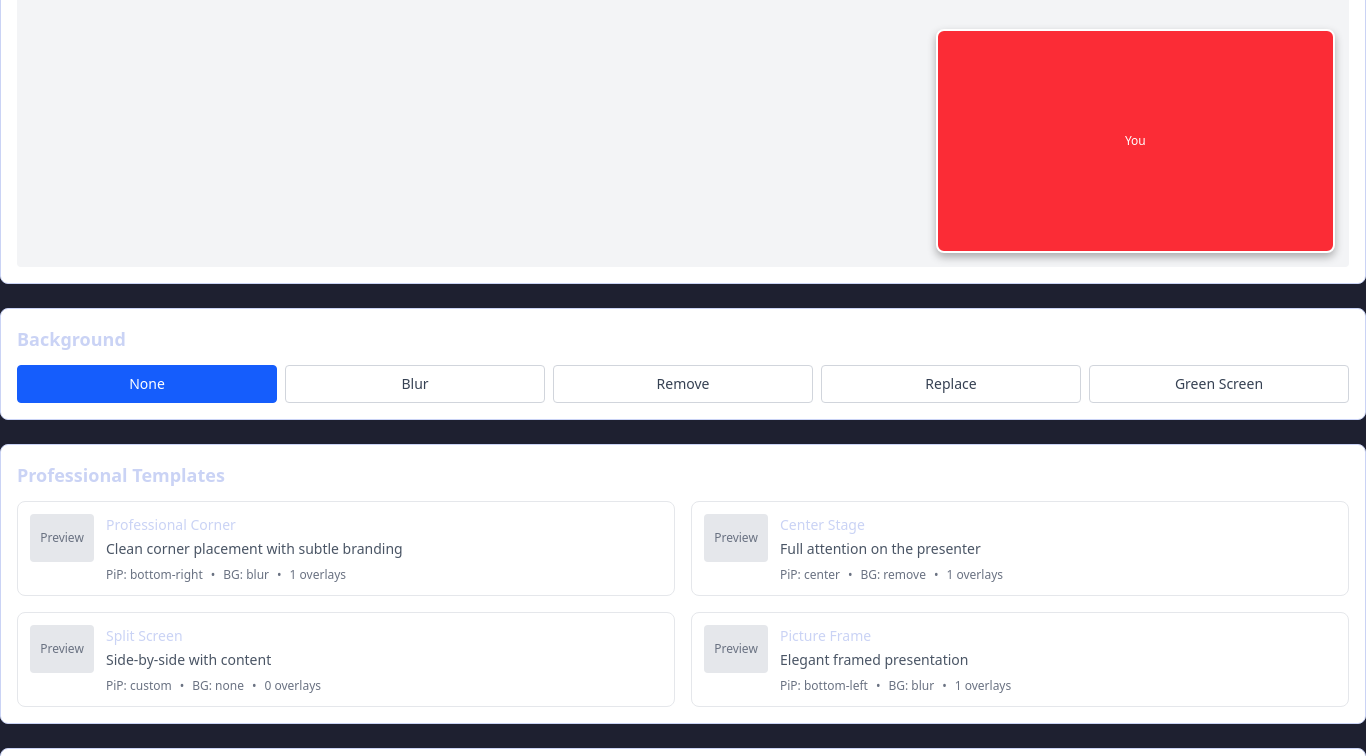
Test: YouTrackFeatures › shows blur amount slider when blur is selected
This screenshot has width=1366, height=756.
(page scrolled)
Click the button "Blur".
click(415, 384)  # box [285,365,545,403]
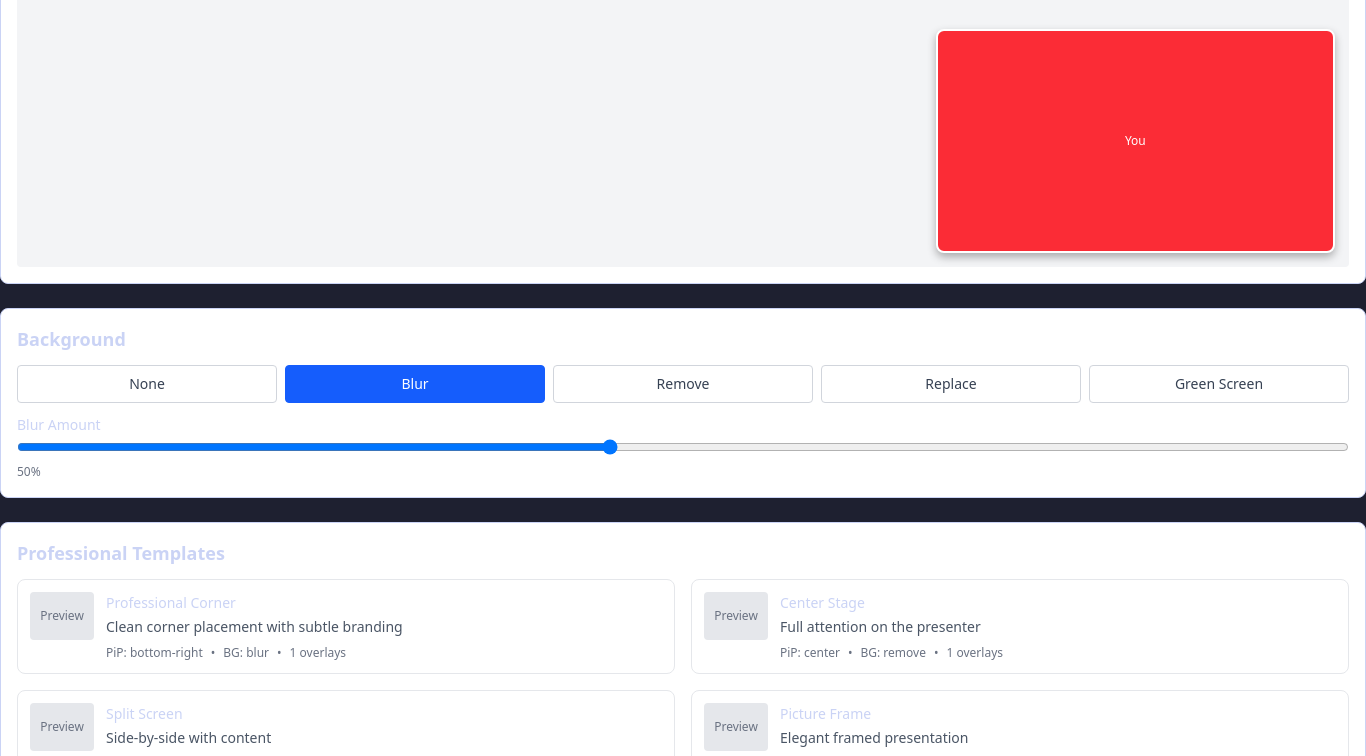
Expected: the text "Blur Amount" is shown, [17,415,101,434]
